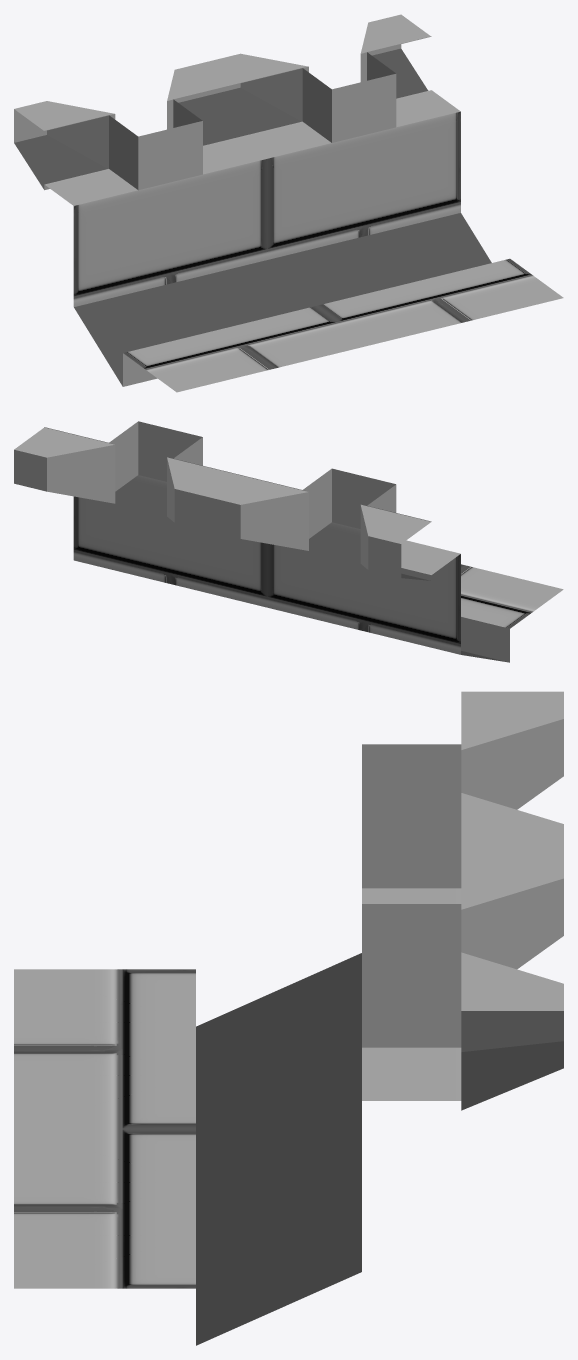
The model's file is RoofStone.fbx.
3 renders of one model, top to bottom at view 1: azimuth 30°, elevation 25°; view 2: azimuth 150°, elevation 25°; view 3: azimuth 270°, elevation 25°, orthographic. The views are drawn at different scales.
Visible parts, largest first — view 1: Cube.009; view 2: Cube.009; view 3: Cube.009.
Part boxes in pixels (x1,y1,x2,y2): Cube.009: [14, 14, 563, 392]; Cube.009: [14, 421, 563, 662]; Cube.009: [14, 691, 563, 1345].
Bounding box in the file's own units: 1.04 × 0.5099 × 0.7573.
